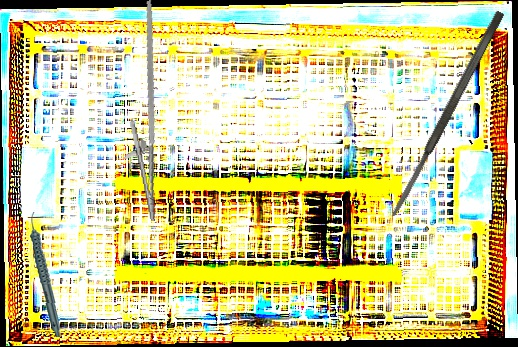Handpiece: (27, 211, 64, 338)
Needle Holder: (102, 0, 183, 224)
Spatula Surgical: (387, 9, 507, 219)
